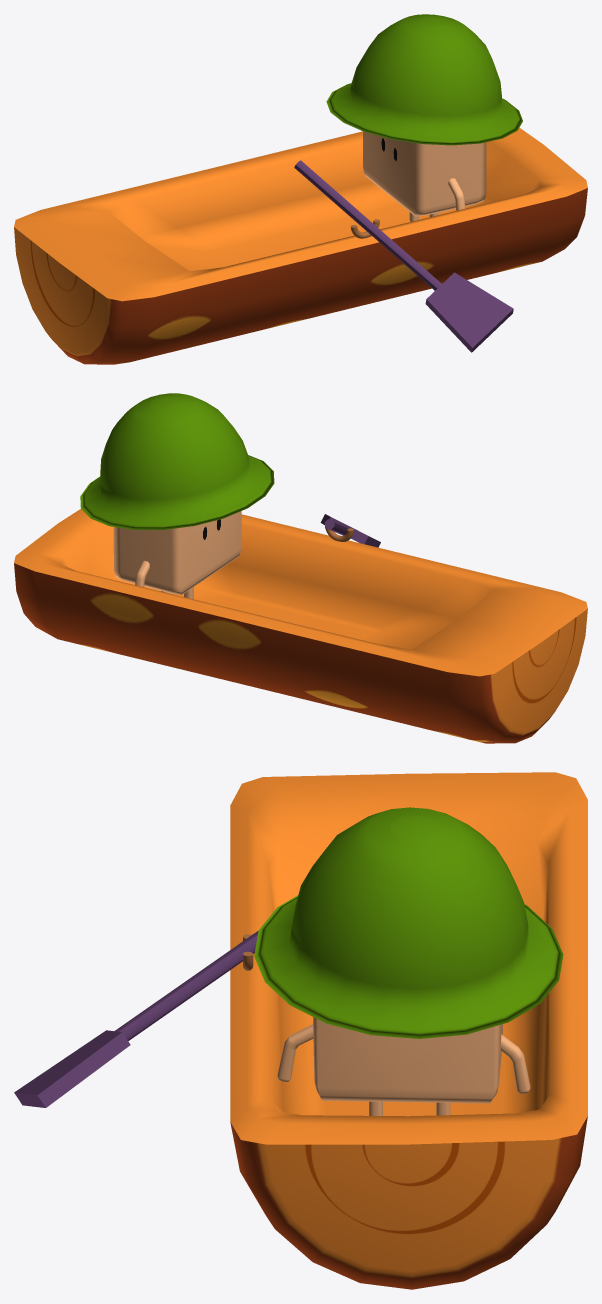
File: BoatWood.fbx
The picture shows the model from 3 angles, top to bottom: view 1: azimuth 30°, elevation 25°; view 2: azimuth 150°, elevation 25°; view 3: azimuth 270°, elevation 25°; orthographic projection. The views are drawn at different scales.
Parts seen in each view (by area): view 1: Log, pCylinder1, polySurface1, pCube2, pCube1; view 2: Log, pCylinder1, polySurface1; view 3: Log, pCylinder1, polySurface1, pCube2, pCube1, polySurface5, polySurface4.
Boxes of the visible parts, x1,y1,x2,y2 form: Log: [14, 127, 587, 364]; pCylinder1: [326, 14, 522, 145]; polySurface1: [363, 131, 486, 216]; pCube2: [425, 272, 513, 352]; pCube1: [294, 160, 441, 290]; Log: [14, 509, 587, 743]; pCylinder1: [80, 393, 274, 529]; polySurface1: [113, 511, 241, 594]; Log: [230, 772, 587, 1289]; pCylinder1: [254, 807, 563, 1038]; polySurface1: [313, 1017, 502, 1103]; pCube2: [14, 1030, 130, 1107]; pCube1: [114, 931, 258, 1040]; polySurface5: [277, 1024, 313, 1081]; polySurface4: [501, 1034, 530, 1093].
Bounding box in the file's own units: 2.62 × 1.32 × 1.71.
